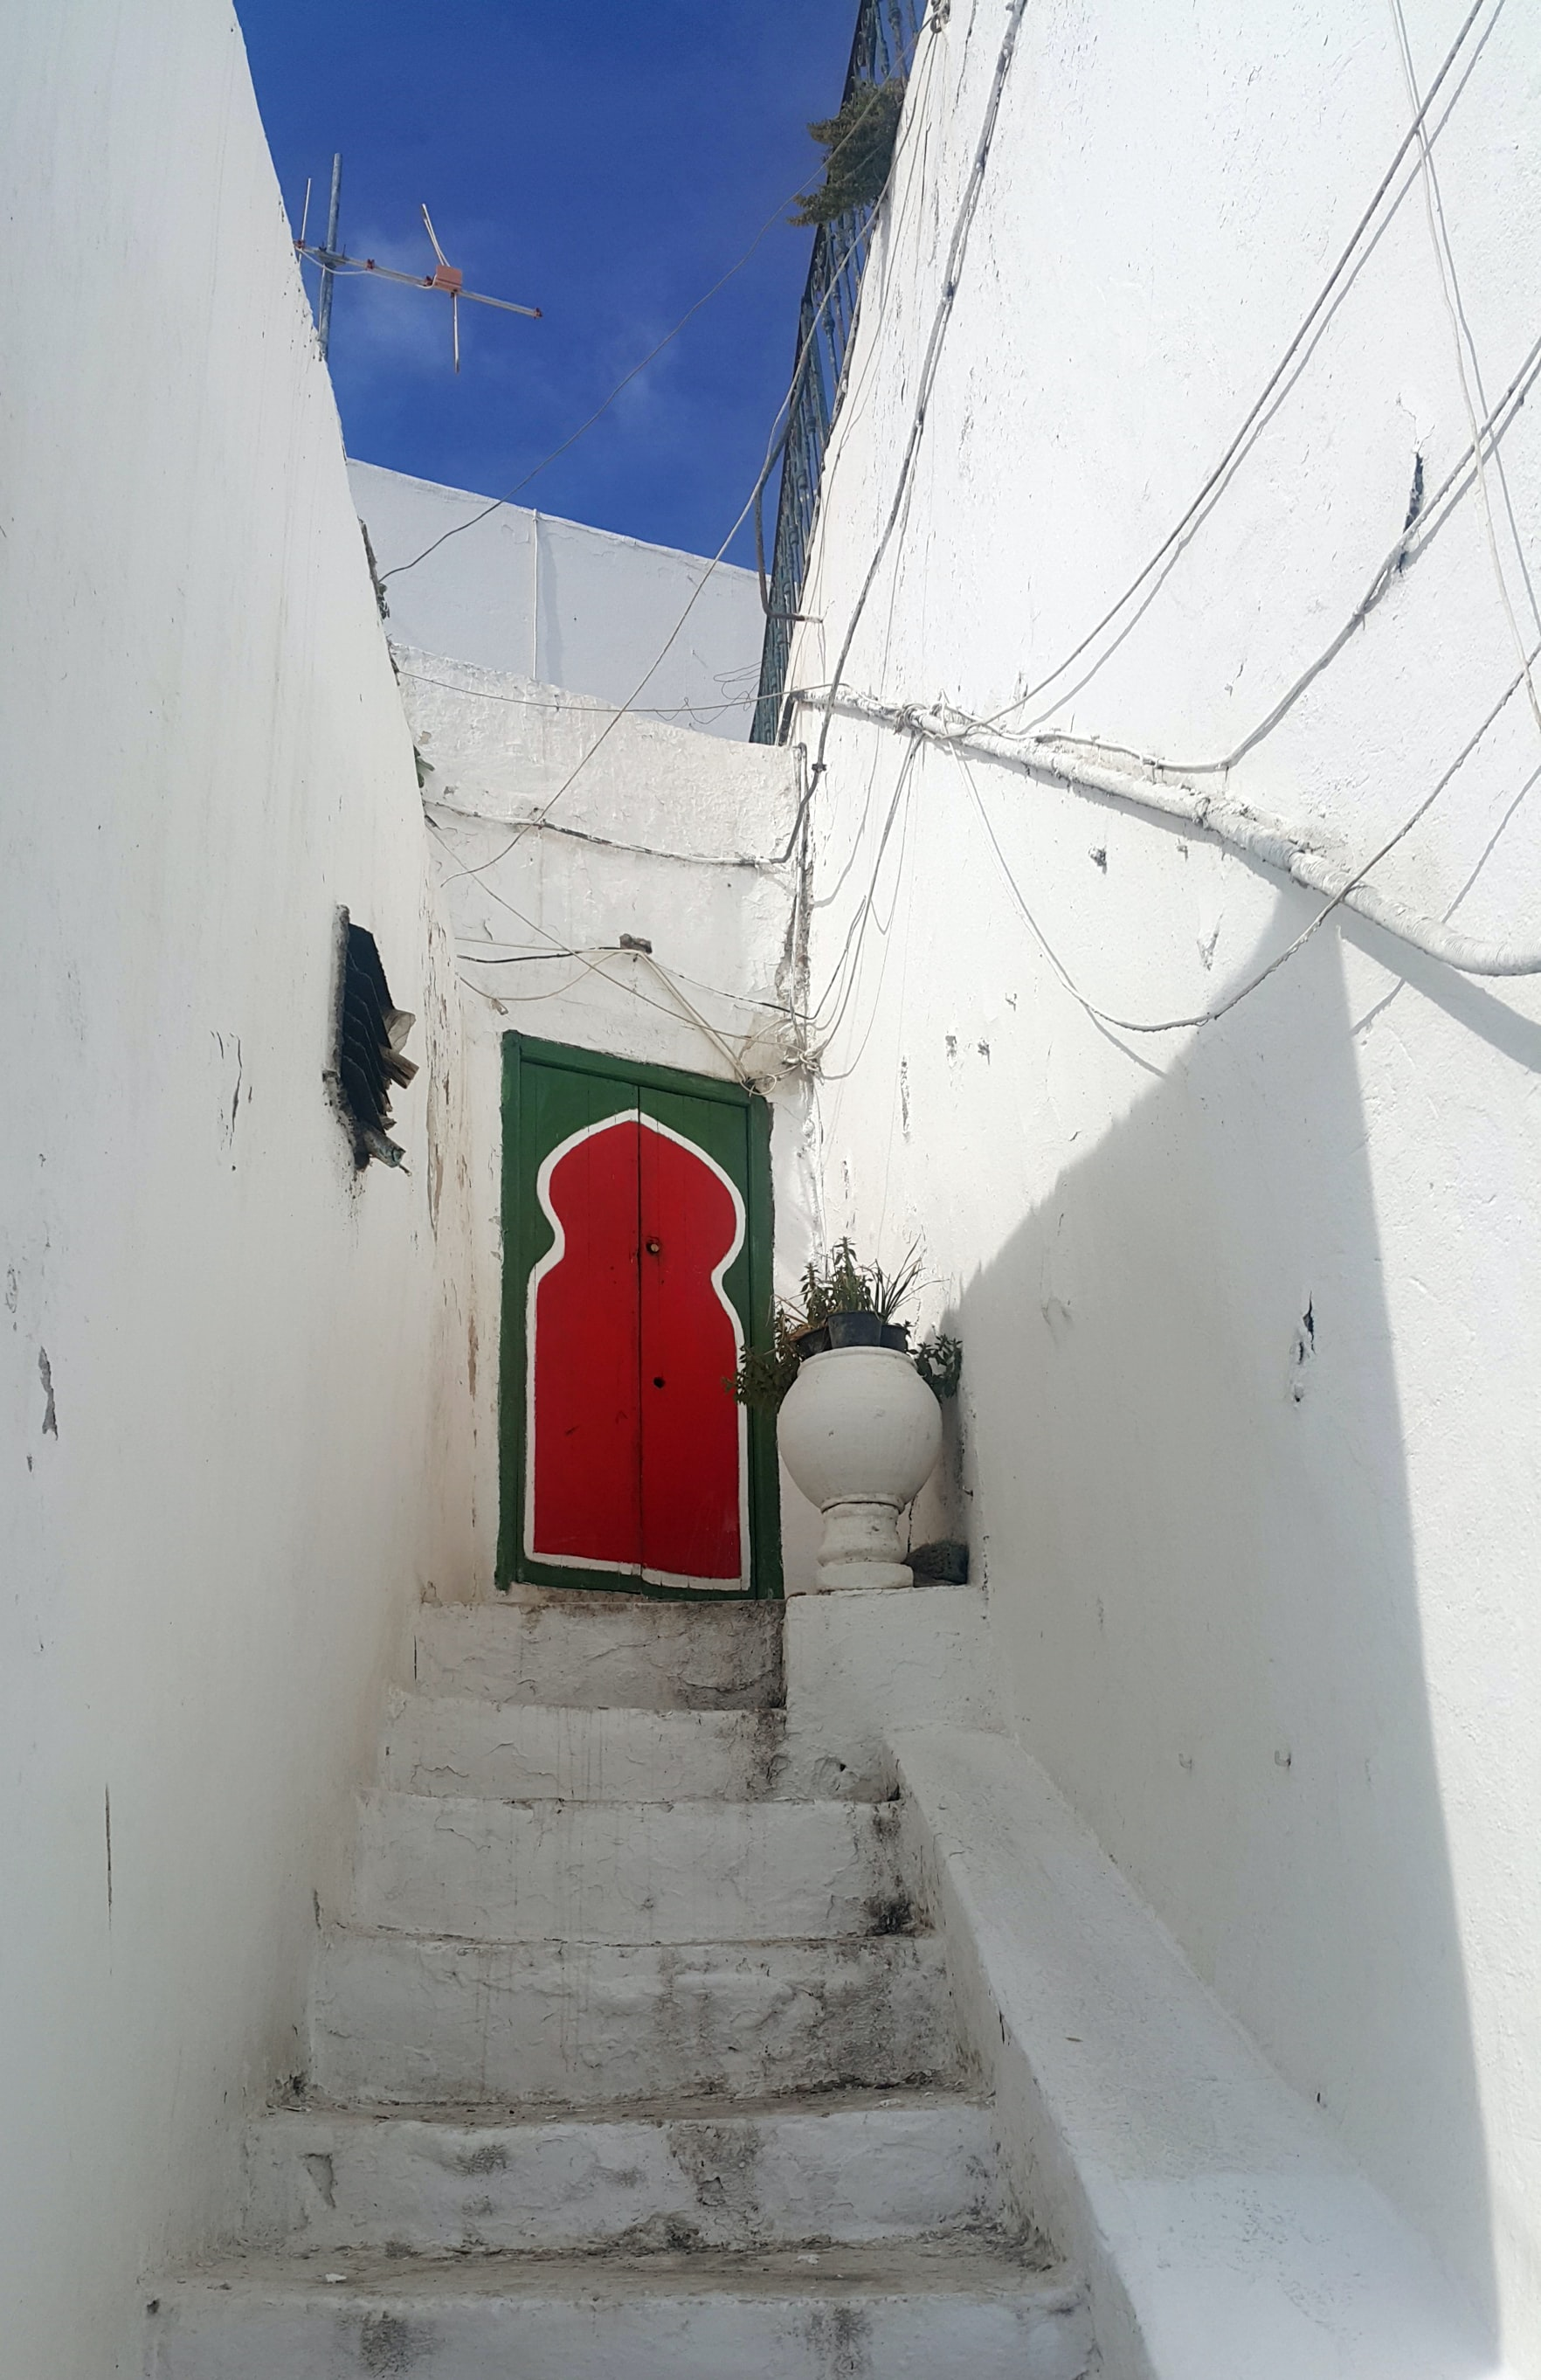upstairs: (392, 1676, 831, 2380)
